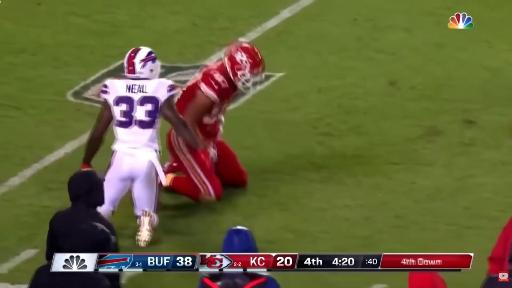Helmet: (223, 41, 265, 91), (124, 47, 161, 79)
Jersey: (100, 79, 177, 151), (176, 61, 238, 139)
Player: (82, 47, 200, 246), (166, 41, 265, 201)
